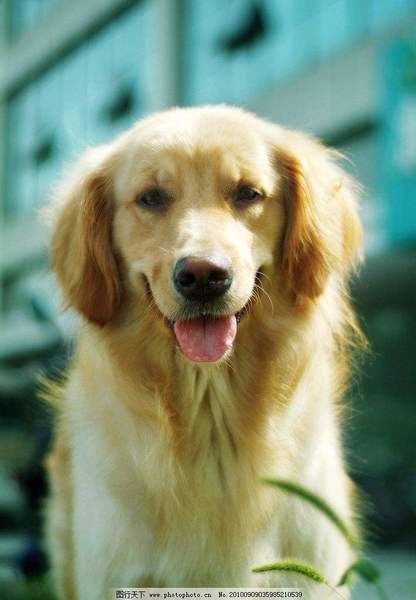dog: (58, 98, 363, 410)
